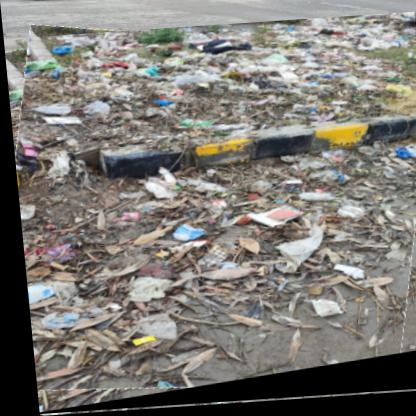Garbage: (3, 18, 416, 416)
